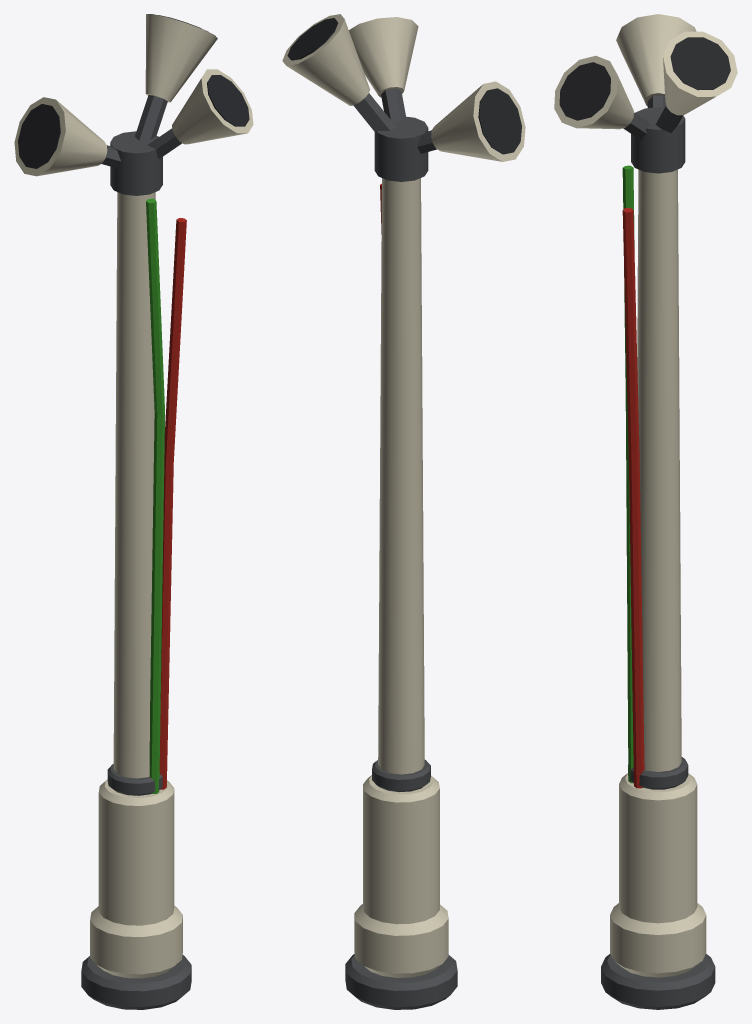
Rendered from programmable-speaker.glb.
The picture shows the model from 3 angles, left to right: view 1: azimuth 30°, elevation 25°; view 2: azimuth 150°, elevation 25°; view 3: azimuth 270°, elevation 25°; orthographic projection. The views are drawn at different scales.
Visible parts, largest first — view 1: body; view 2: body; view 3: body.
Part boxes in pixels (left/top/right/bottom): body: left=14, top=14, right=253, bottom=1009; body: left=282, top=14, right=525, bottom=1009; body: left=554, top=14, right=737, bottom=1009.
Bounding box in the file's own units: 0.8129 × 3.59 × 0.6097.
